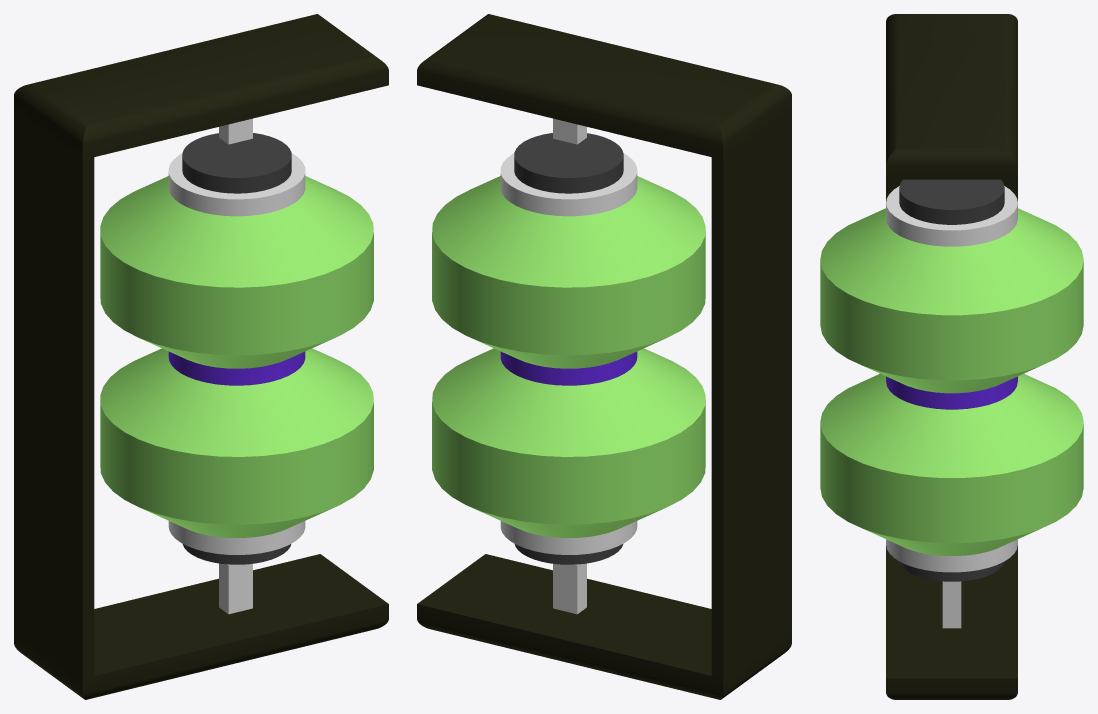
The model's file is BatteryBasicV2.fbx.
The picture shows the model from 3 angles, left to right: view 1: azimuth 30°, elevation 25°; view 2: azimuth 150°, elevation 25°; view 3: azimuth 270°, elevation 25°; orthographic projection. The views are drawn at different scales.
Visible parts, largest first — view 1: Battery Holder, Battery; view 2: Battery Holder, Battery; view 3: Battery, Battery Holder.
Part boxes in pixels (box(x1,y1,x2,y2)): Battery Holder: box(14, 14, 388, 699); Battery: box(100, 133, 373, 564); Battery Holder: box(417, 14, 791, 699); Battery: box(432, 133, 705, 564); Battery: box(820, 179, 1083, 581); Battery Holder: box(886, 14, 1017, 699).
Size of the model in its own units: 51.74 by 92.52 by 40.
